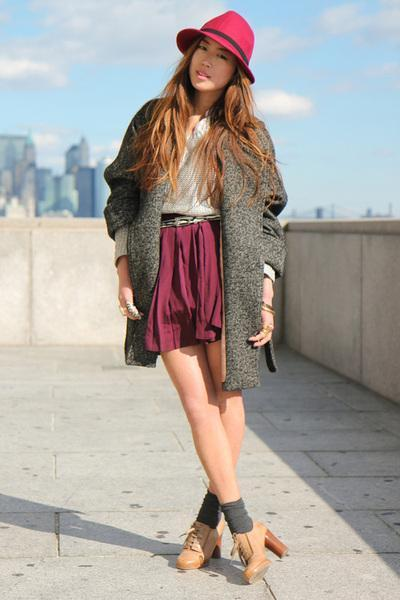hat: (176, 11, 253, 59)
jacket: (104, 108, 289, 391)
shirt: (153, 115, 231, 227)
shoe: (166, 518, 286, 581)
skirt: (146, 213, 232, 358)
